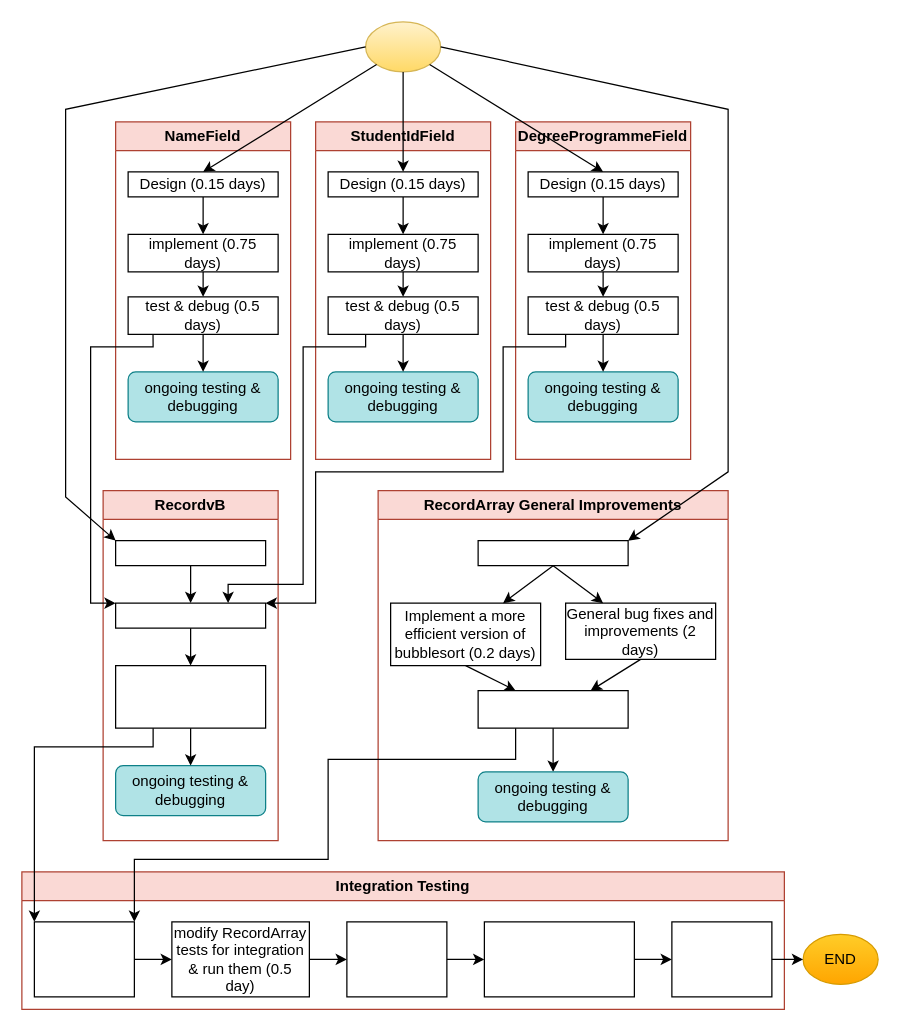
Image size: 900x1031. Some labels were removed from this diagram. The centre of each missing label's shape, as x and y in pixels:
"create & run additional tests (1 day)" goes at (x=396, y=959).
"Design (0.25 days)" goes at (x=552, y=552).
"Design (0.5 days)" goes at (x=190, y=552).
"final bugfixes (2 days)" goes at (x=721, y=959).
"implement (1.5 days)" goes at (x=190, y=615).
"integrate system (0.1 days)" goes at (x=83, y=959).
"START" goes at (x=402, y=46).
"test & debug (0.5 day)" goes at (x=552, y=708).
"test & debug (0.75 days)" goes at (x=190, y=696).
"use Clang sanitisers to analyse behaviour (memory bugs etc) (1 day)" goes at (x=558, y=959).
